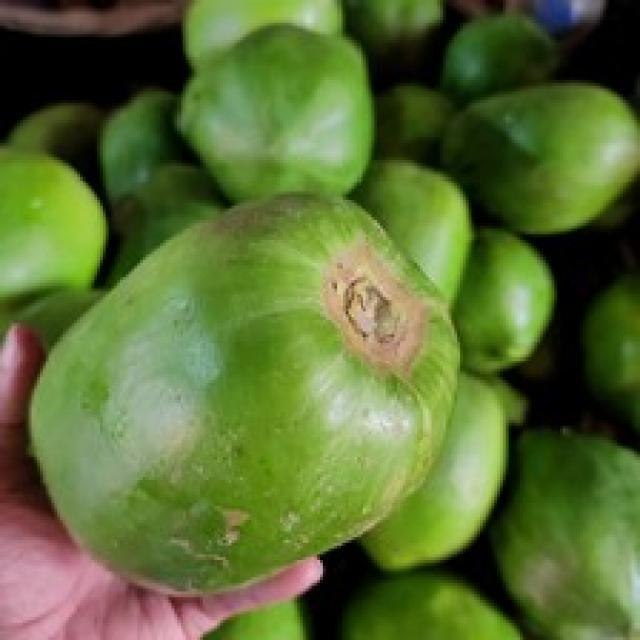Pepaya unrippen: (36, 193, 484, 588)
